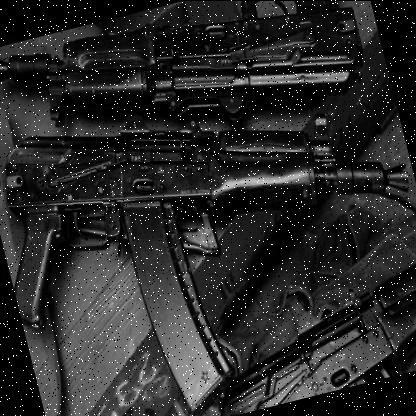rifle: (0, 43, 416, 394), (0, 0, 382, 209), (181, 253, 416, 416)
